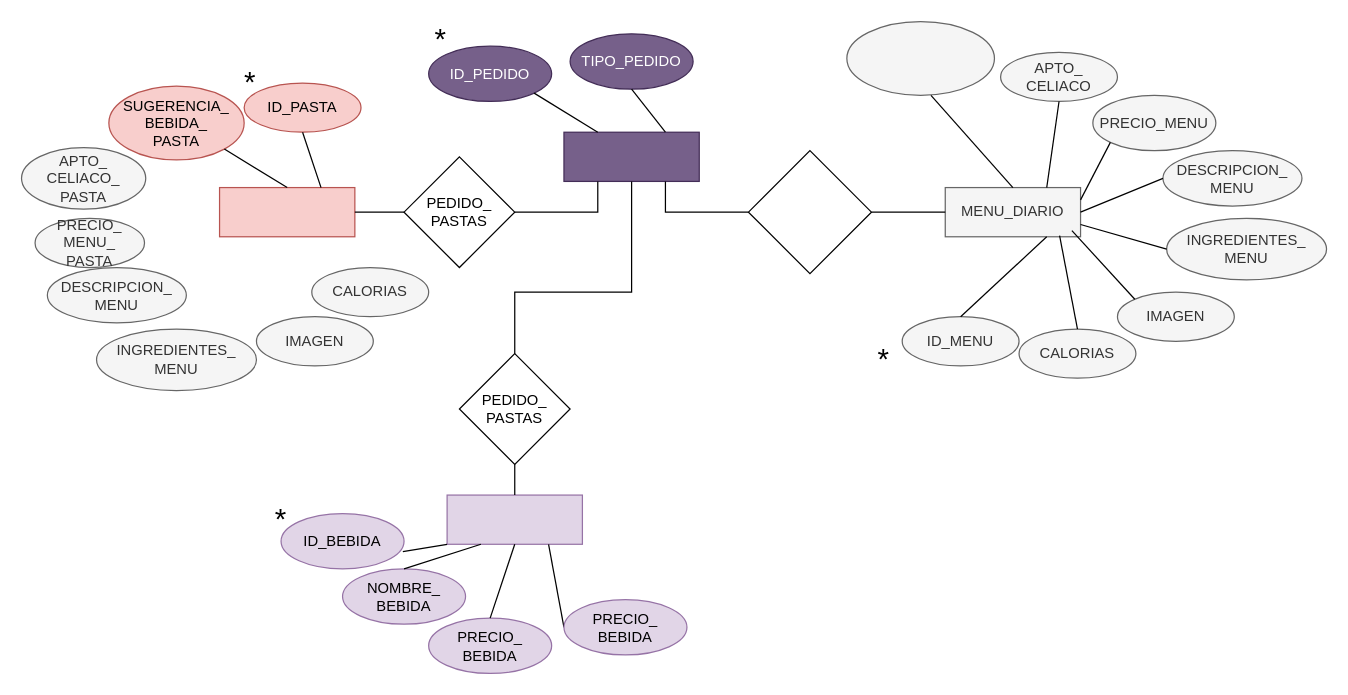
This 1348x695 diagram has some shape labels left out. Each missing label, with the centre of its shape:
"BEBIDA" goes at pixel 514 519.
"PASTAS" goes at pixel 286 211.
"PEDIDO" goes at pixel 631 156.
"PEDIDO_ MENU_ DIARIO" goes at pixel 809 211.
"SUGERENCIA_ BEBIDA_ MENU" goes at pixel 920 57.
